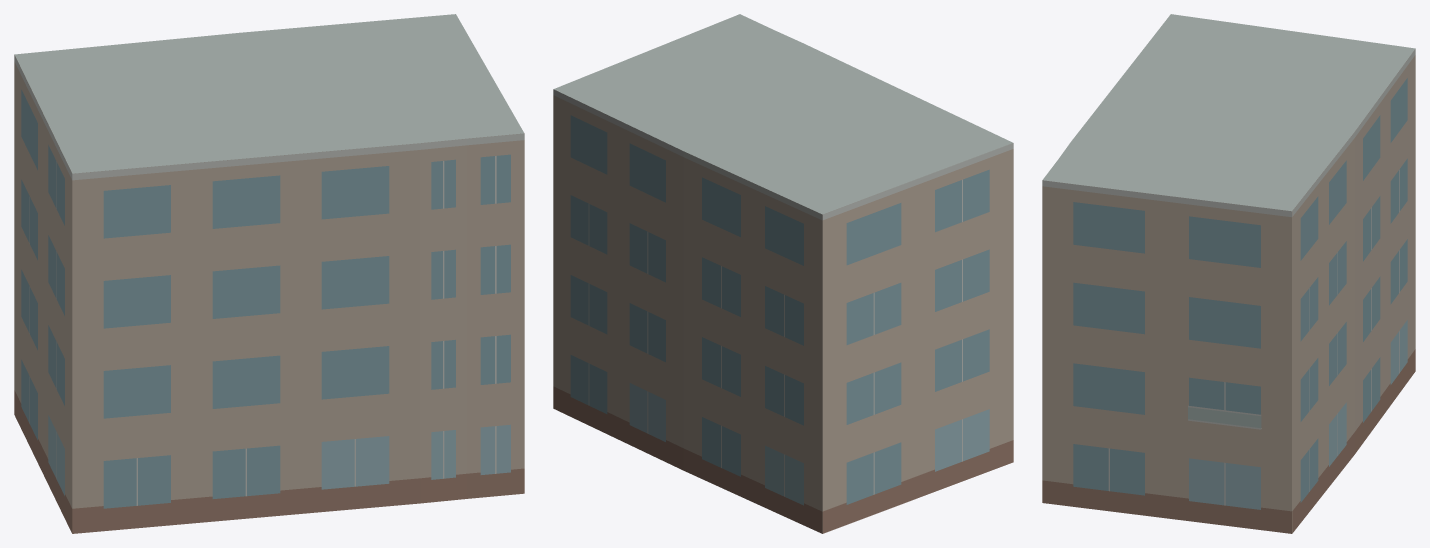
The model's file is survey-upis-32472008.glb.
The picture shows the model from 3 angles, left to right: view 1: azimuth 30°, elevation 25°; view 2: azimuth 150°, elevation 25°; view 3: azimuth 270°, elevation 25°; orthographic projection. The views are drawn at different scales.
Visible parts, largest first — view 1: survey-upis-32472008.tmp; view 2: survey-upis-32472008.tmp; view 3: survey-upis-32472008.tmp.
Boxes of the visible parts, x1,y1,x2,y2 form: survey-upis-32472008.tmp: (14, 14, 524, 533); survey-upis-32472008.tmp: (553, 14, 1013, 533); survey-upis-32472008.tmp: (1042, 14, 1415, 533).
Size of the model in its own units: 17.18 by 13.1 by 13.75.
